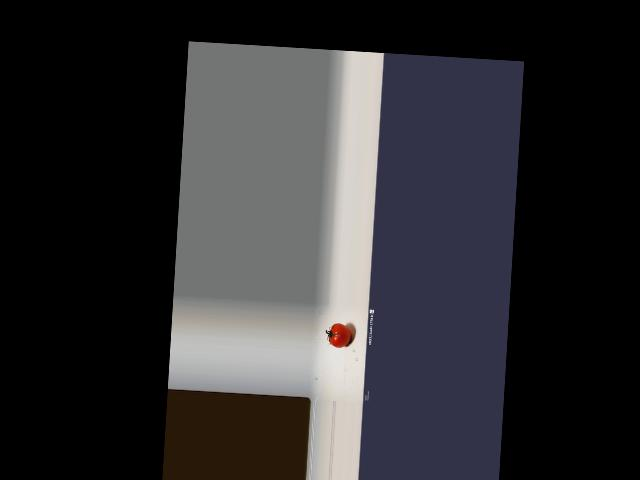tomato: (329, 323, 352, 348)
